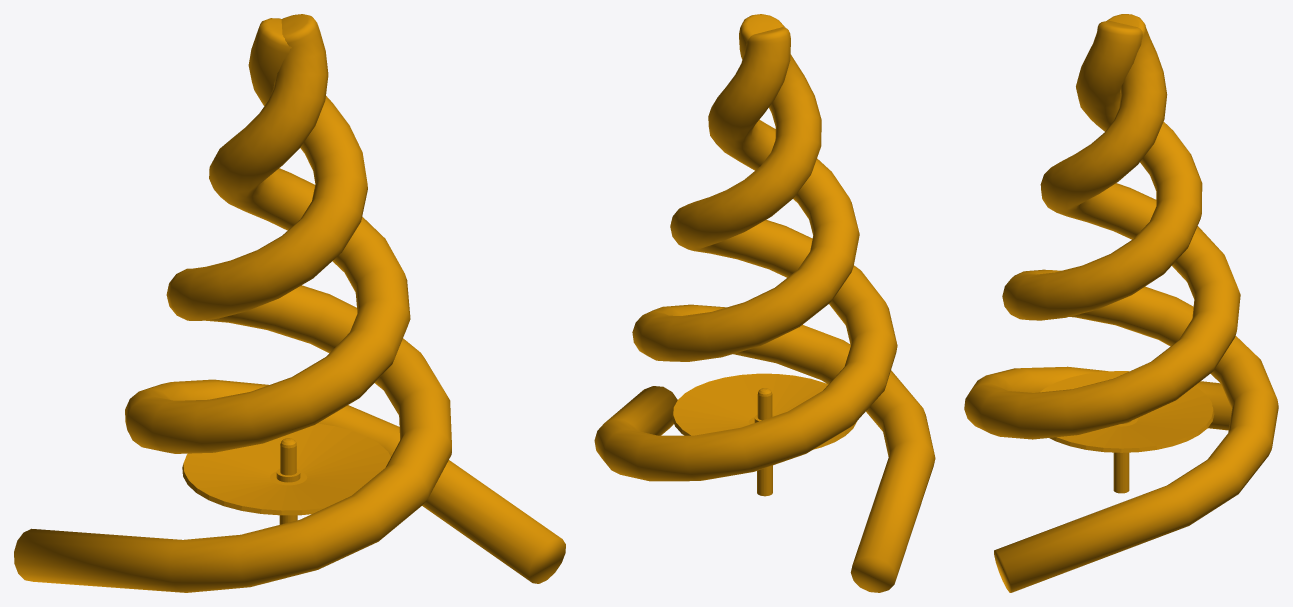
The model's file is GaragistKeySlab.fbx.
3 views of the same model, side by side, from view 1: azimuth 30°, elevation 25°; view 2: azimuth 150°, elevation 25°; view 3: azimuth 270°, elevation 25° (orthographic). The views are drawn at different scales.
Visible parts, largest first — view 1: Spiral, Spiral.001, Circle; view 2: Spiral, Spiral.001, Circle; view 3: Spiral.001, Spiral, Circle.
Part boxes in pixels (<box>): Spiral: <box>14,18,451,592</box>; Spiral.001: <box>125,14,565,583</box>; Circle: <box>182,423,390,524</box>; Spiral: <box>632,27,935,592</box>; Spiral.001: <box>594,14,897,481</box>; Circle: <box>672,373,857,496</box>; Spiral.001: <box>994,21,1278,592</box>; Spiral: <box>964,14,1240,439</box>; Circle: <box>1040,371,1214,493</box>.
Size of the model in its own units: 69.46 by 87.6 by 50.91.
